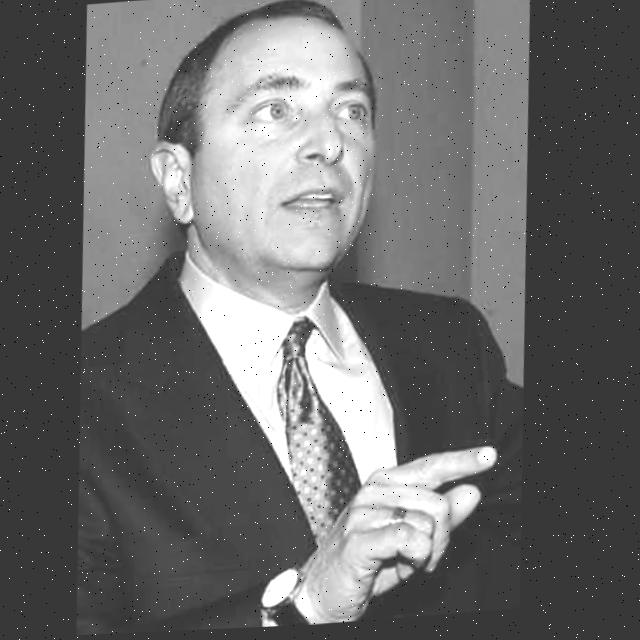face: (129, 7, 380, 294)
